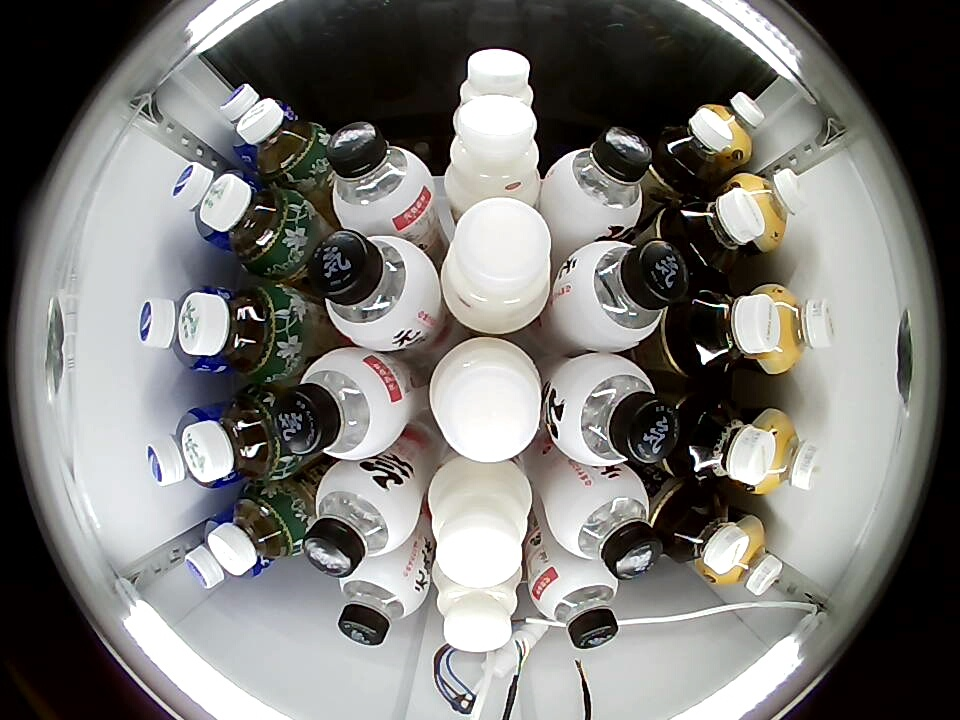asamu: (767, 286, 837, 373), (756, 412, 823, 494), (739, 167, 807, 245), (715, 523, 784, 595), (704, 91, 766, 161)
baokuangli: (139, 286, 212, 373), (172, 161, 242, 241), (146, 407, 214, 488), (183, 516, 257, 590), (220, 83, 282, 152)
moliqingcha: (183, 283, 301, 382), (199, 174, 310, 278), (182, 383, 293, 484), (206, 482, 308, 578), (233, 98, 330, 188)
wulongcha: (685, 285, 780, 377), (685, 396, 777, 489), (675, 188, 766, 278), (666, 492, 750, 574), (661, 108, 734, 188)
yingyangkuaixian: (440, 200, 553, 335), (427, 337, 544, 463), (426, 459, 535, 586), (443, 97, 542, 213), (432, 561, 522, 651), (456, 49, 536, 116)
yuanqishui: (310, 231, 441, 350), (547, 353, 681, 467), (556, 239, 690, 352), (279, 348, 410, 460), (301, 461, 420, 577), (545, 466, 663, 579), (543, 125, 654, 240), (324, 121, 435, 235), (530, 557, 620, 650), (337, 557, 428, 646)
